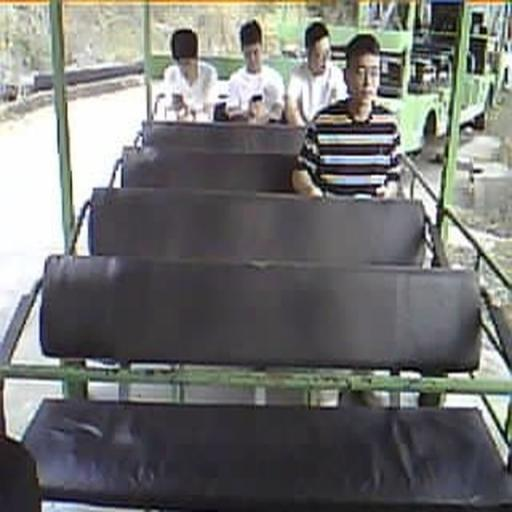persona: (291, 32, 407, 202), (286, 21, 348, 127), (225, 19, 286, 123), (155, 27, 219, 121)
